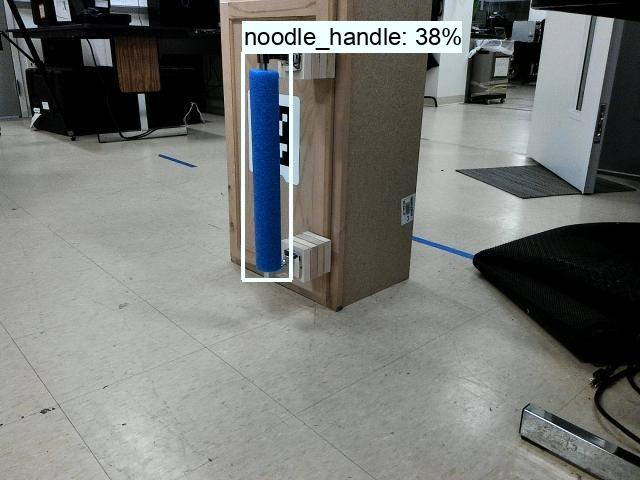noodle_handle: (244, 55, 288, 277)
